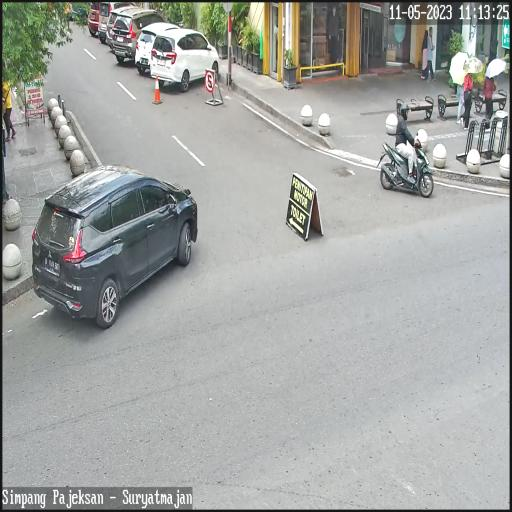mobil: (27, 162, 198, 335), (152, 28, 220, 96), (113, 6, 166, 69), (134, 19, 182, 78)
motor: (379, 128, 437, 200)
